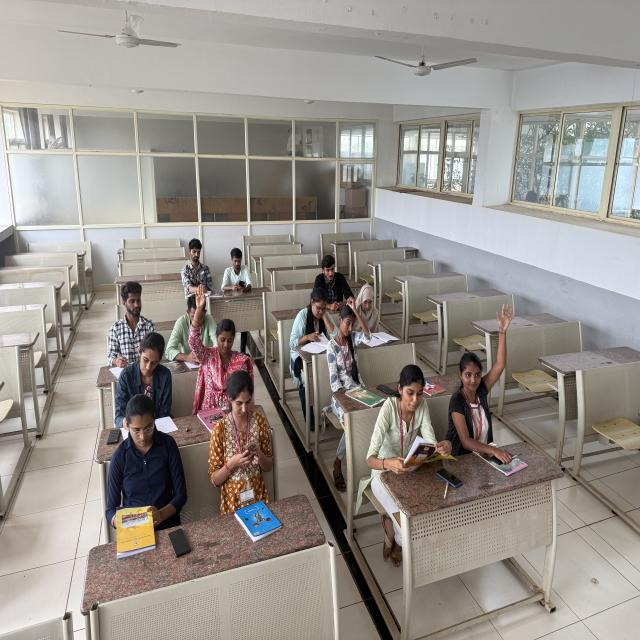Hand Rising: (452, 300, 524, 484), (185, 279, 254, 385), (325, 295, 373, 408)
Reading: (371, 363, 451, 475), (353, 281, 384, 344)
Using Phone: (205, 367, 286, 509), (220, 243, 254, 302)
Writing: (110, 329, 182, 440), (104, 274, 149, 384), (288, 286, 338, 360), (178, 235, 215, 302)
